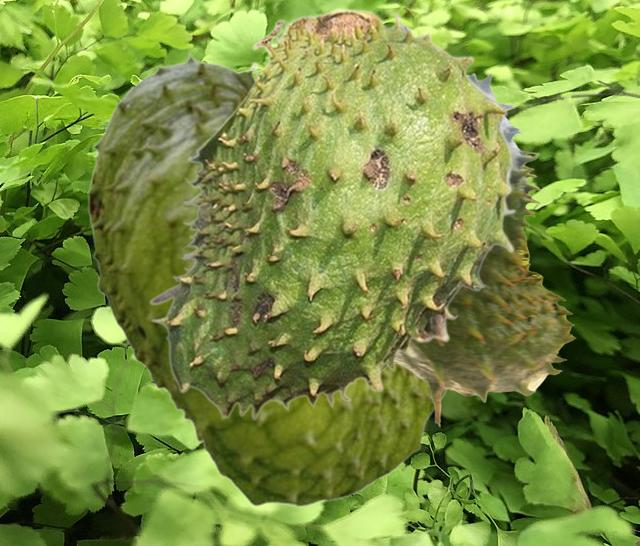guyabano: (87, 51, 450, 507), (148, 8, 516, 420), (382, 71, 575, 426)
